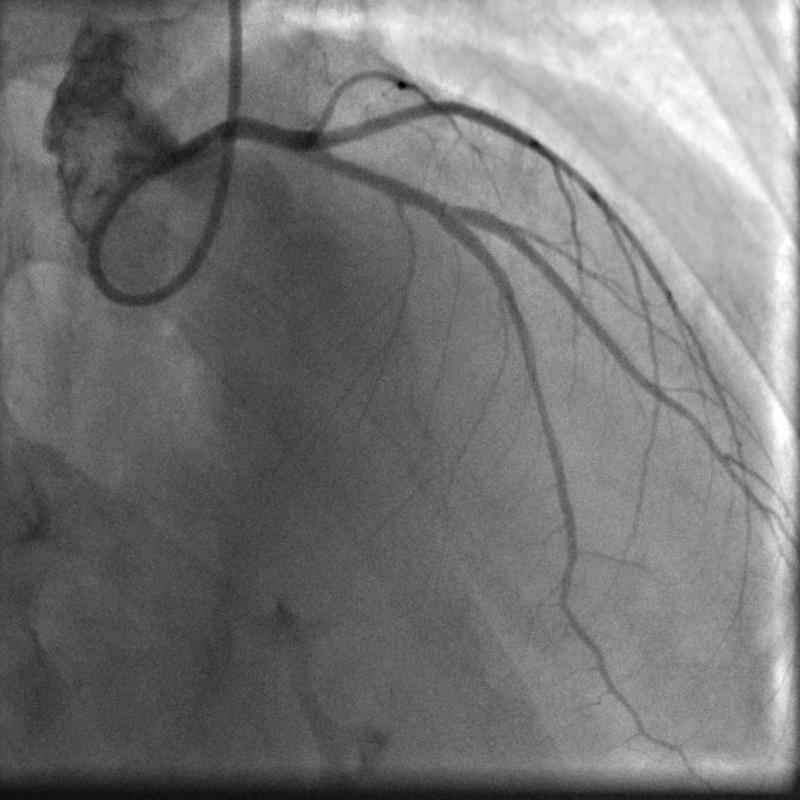Stenosis: (420, 188, 450, 225)
